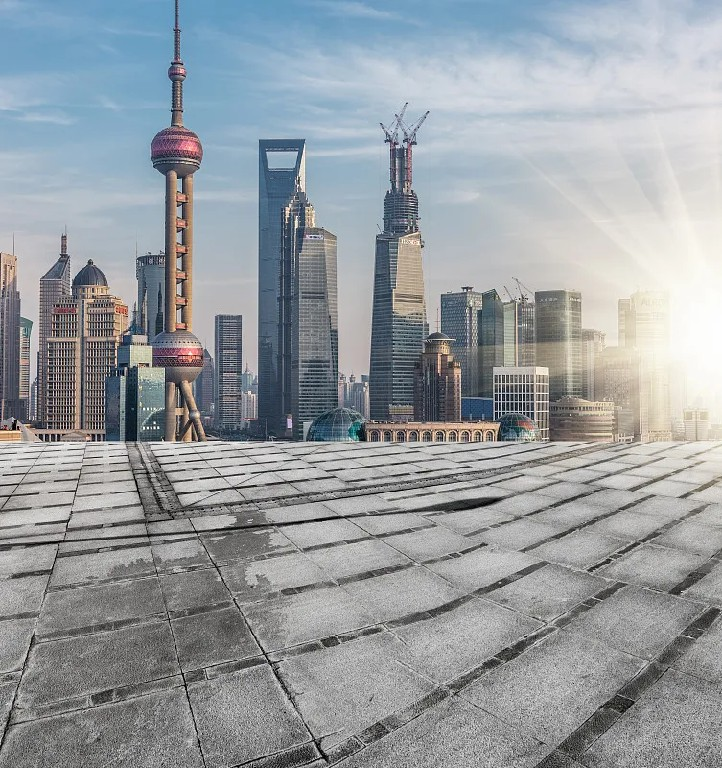Oriental: (151, 2, 204, 440)
